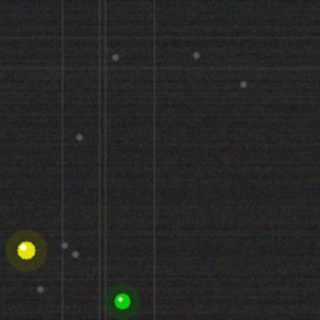green_normal: (112, 291, 132, 311)
yellow_warning: (15, 239, 37, 261)
